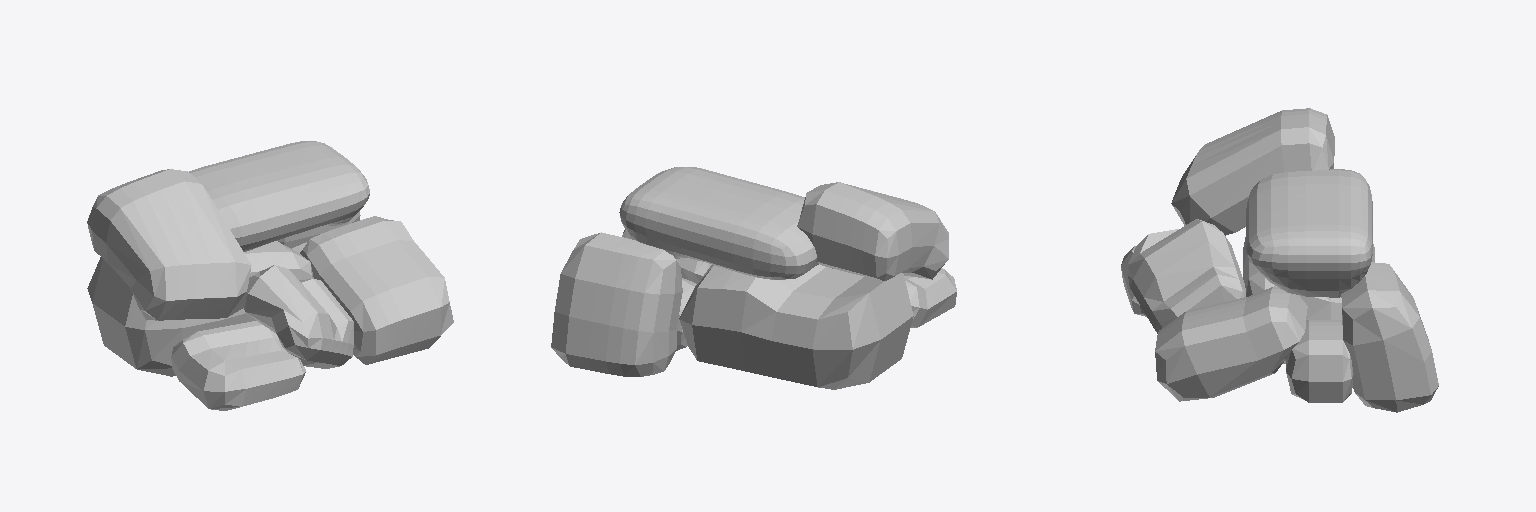
The model's file is Gareki.obj.
The picture shows the model from 3 angles: view 1: azimuth 30°, elevation 25°; view 2: azimuth 150°, elevation 25°; view 3: azimuth 270°, elevation 25°; orthographic projection.
Visible parts, largest first — view 1: pCube6, pCube3, pCube4, pCube7, pCube1, pCube8, pCube5; view 2: pCube1, pCube5, pCube4, pCube6, pCube7, pCube3; view 3: pCube4, pCube3, pCube6, pCube5, pCube8, pCube2, pCube1.
Part boxes in pixels (x1,y1,x2,y2): pCube6: (87, 169, 251, 320); pCube3: (300, 216, 453, 364); pCube4: (189, 141, 369, 251); pCube7: (171, 321, 305, 410); pCube1: (87, 241, 313, 376); pCube8: (244, 265, 353, 368); pCube5: (277, 211, 360, 248); pCube1: (679, 264, 913, 389); pCube5: (551, 232, 682, 376); pCube4: (619, 167, 818, 279); pCube6: (797, 182, 948, 280); pCube7: (904, 268, 956, 327); pCube3: (622, 229, 711, 283); pCube4: (1246, 169, 1372, 297); pCube3: (1155, 286, 1307, 401); pCube6: (1171, 108, 1334, 235); pCube5: (1341, 262, 1438, 412); pCube8: (1128, 219, 1245, 333); pCube2: (1286, 320, 1353, 402); pCube1: (1243, 237, 1374, 363).
Size of the model in its own units: 10.09 by 6.15 by 9.44.